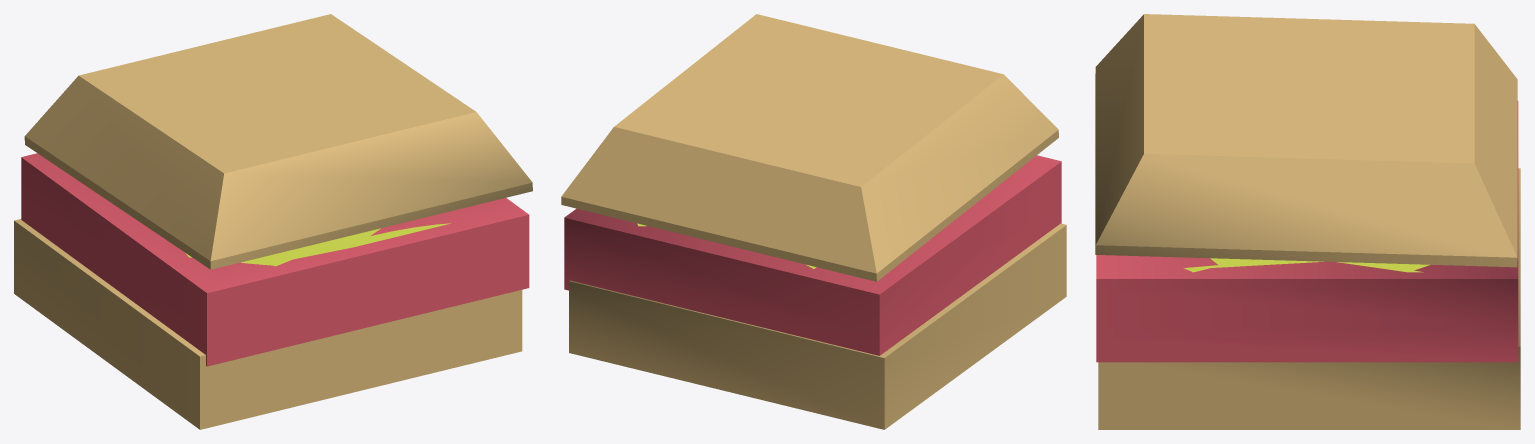
The model's file is hamburger.glb.
3 views of the same model, side by side, from view 1: azimuth 30°, elevation 25°; view 2: azimuth 150°, elevation 25°; view 3: azimuth 270°, elevation 25° (orthographic). The views are drawn at different scales.
Parts seen in each view (by area): view 1: Cube.002, Cube.001, Cube, Plane; view 2: Cube.002, Cube.001, Cube; view 3: Cube.002, Cube.001, Cube, Plane.
Boxes of the visible parts, box(x1,y1,x2,y2) form: Cube.002: box(24, 14, 532, 269); Cube.001: box(21, 153, 529, 366); Cube: box(14, 219, 522, 429); Plane: box(185, 223, 451, 266); Cube.002: box(561, 14, 1058, 281); Cube.001: box(564, 155, 1061, 355); Cube: box(569, 223, 1066, 429); Cube.002: box(1095, 14, 1517, 267); Cube.001: box(1096, 101, 1518, 362); Cube: box(1098, 168, 1520, 429); Plane: box(1183, 258, 1430, 272).
Bounding box in the file's own units: 1.97 × 1.31 × 1.93.
